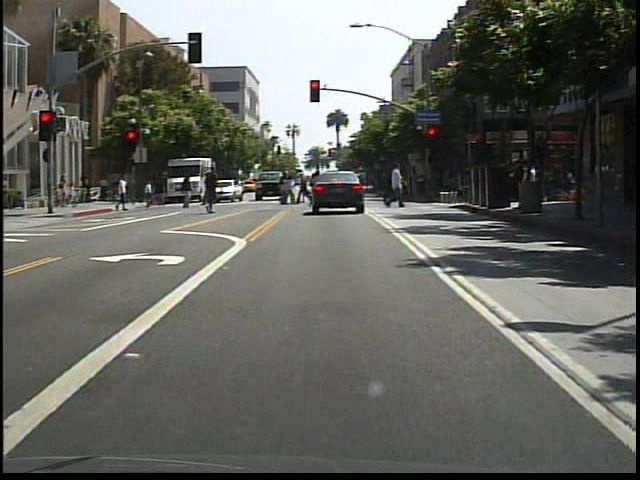person: (384, 162, 408, 211), (200, 166, 222, 217), (308, 170, 328, 212), (178, 173, 196, 213), (114, 173, 131, 215)
